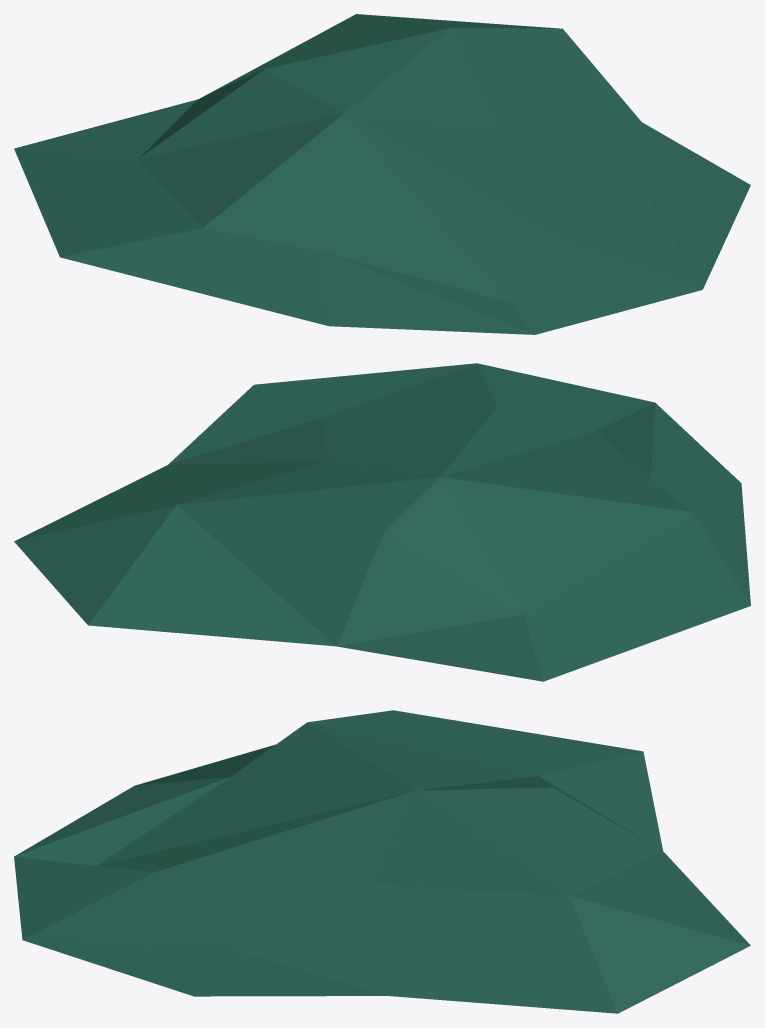
Rendered from SM_L_grey_hill2.fbx.
3 renders of one model, top to bottom at view 1: azimuth 30°, elevation 25°; view 2: azimuth 150°, elevation 25°; view 3: azimuth 270°, elevation 25°, orthographic.
Parts seen in each view (by area): view 1: SM_L_Env_GreyL_Hill; view 2: SM_L_Env_GreyL_Hill; view 3: SM_L_Env_GreyL_Hill.
Boxes of the visible parts, left/top/right/bottom form: SM_L_Env_GreyL_Hill: left=14, top=14, right=750, bottom=334; SM_L_Env_GreyL_Hill: left=14, top=363, right=750, bottom=681; SM_L_Env_GreyL_Hill: left=14, top=710, right=750, bottom=1013.
Bounding box in the file's own units: 262 × 29.7 × 273.
